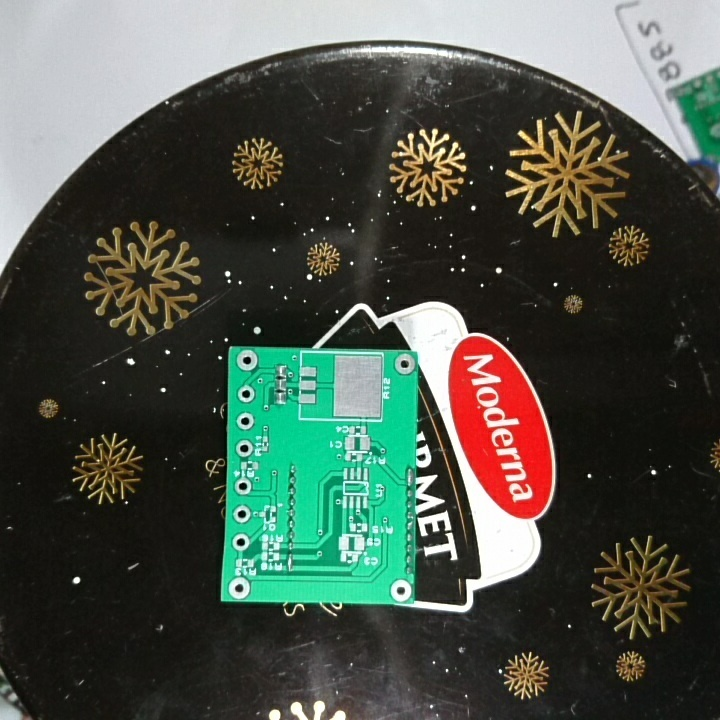F: (234, 348, 259, 372), (392, 353, 415, 378), (228, 575, 251, 599), (390, 578, 413, 602), (236, 409, 257, 434), (236, 383, 257, 404), (234, 438, 254, 460), (231, 504, 251, 526), (231, 532, 251, 554), (234, 475, 253, 498)
P: (404, 465, 415, 487), (284, 552, 294, 574)
